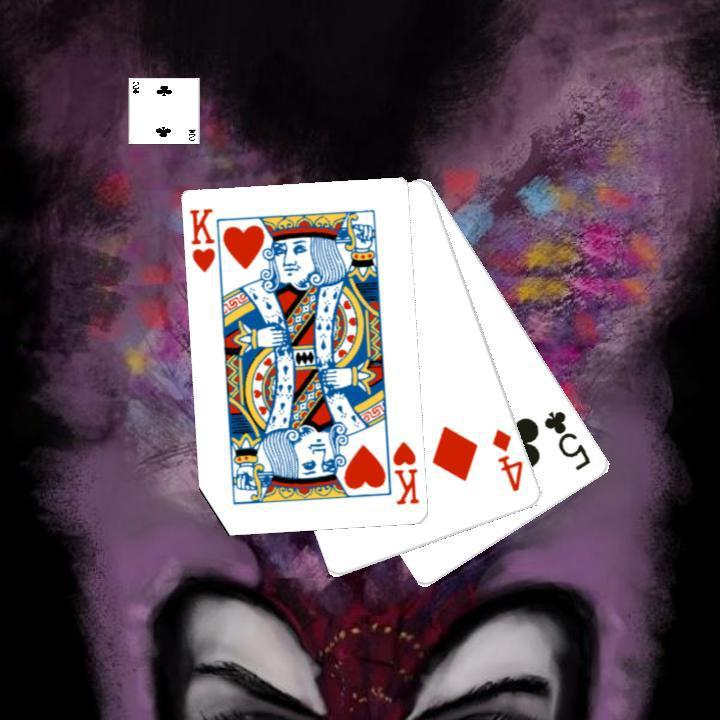4: (488, 425, 526, 494)
5: (540, 406, 594, 473)
K: (389, 437, 422, 507), (186, 204, 218, 275)
